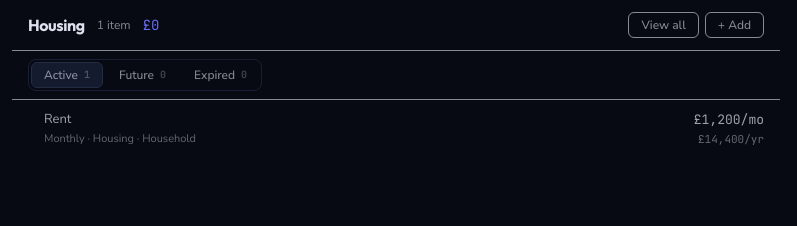
Test: ItemArea › expands accordion when item row is clicked
Click the button with test id "item-row-item-rent": (64, 138) [12, 100, 780, 157]
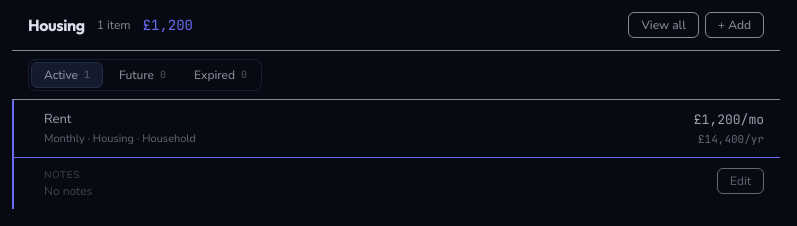
Now the text "Notes" is shown, box [44, 168, 80, 182]
